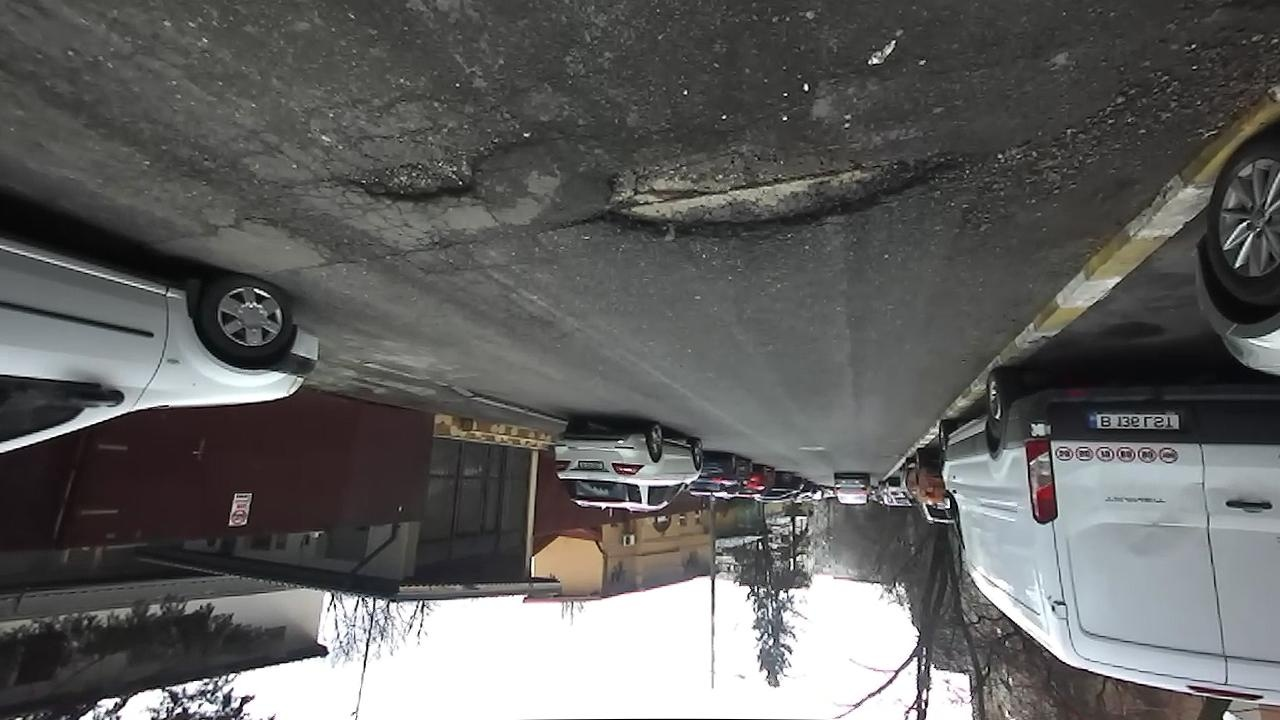pothole: (584, 125, 982, 248), (337, 136, 522, 210)
